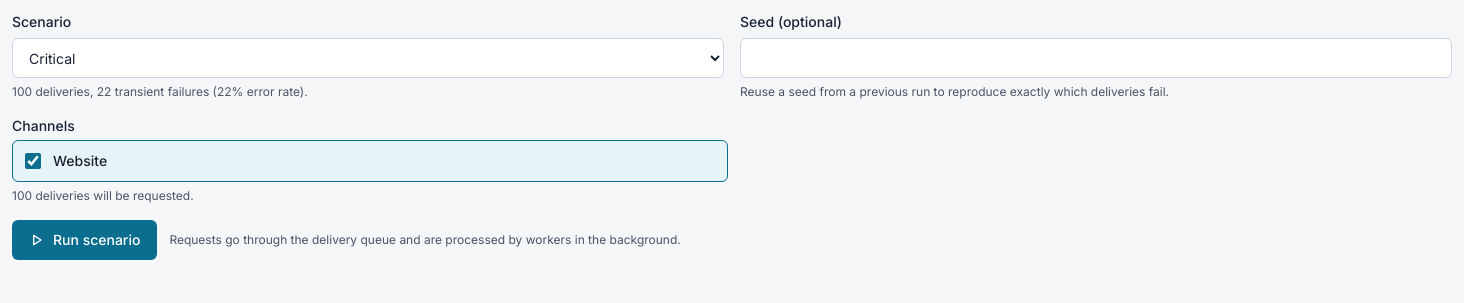
Test: SimulationForm › refuses to run without a channel
The width and height of the screenshot is (1464, 303).
Click the checkbox labelled "Website".
click(33, 161)  # box [25,153,41,169]
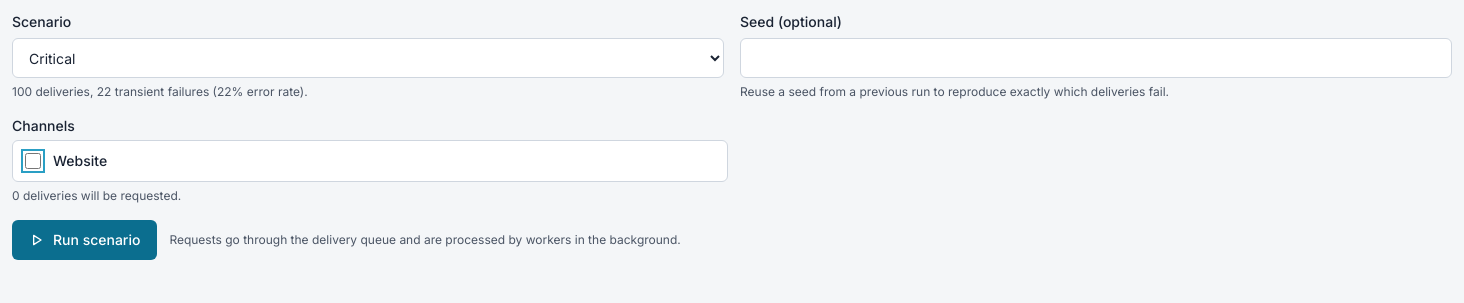
Click the button "Run scenario".
click(85, 240)  # box [12,220,157,260]
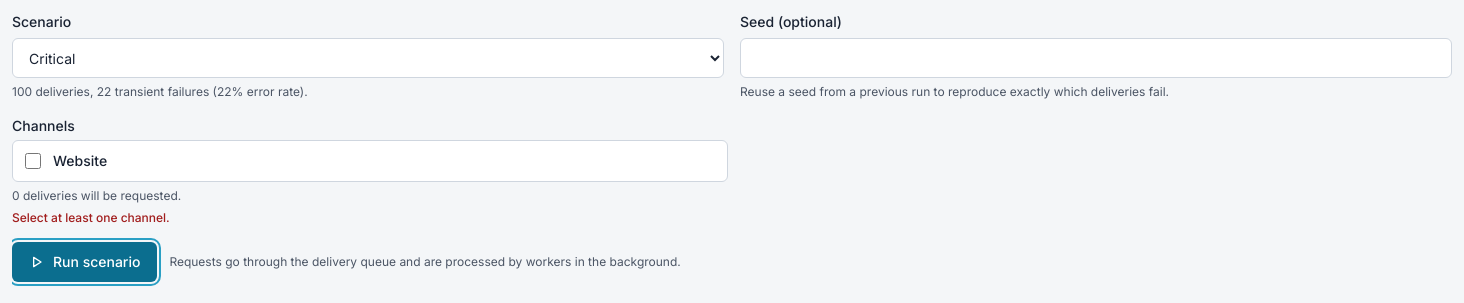
Now the text "Select at least one channel." is shown, box [12,210,170,225]
